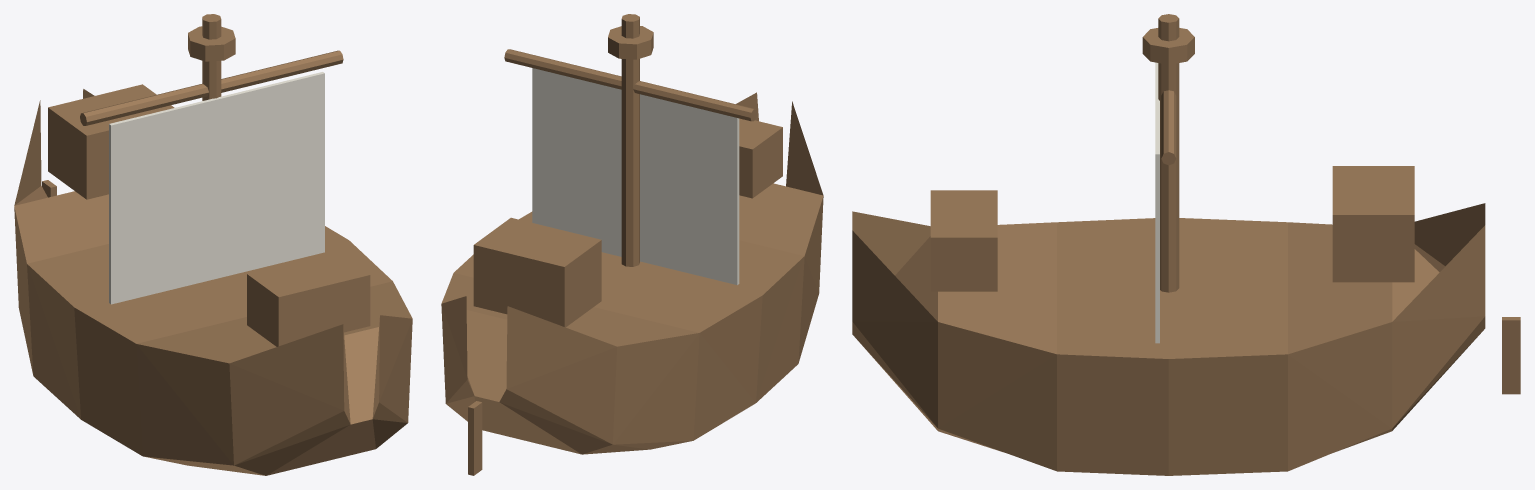
Rendered from Cog.fbx.
3 renders of one model, left to right at view 1: azimuth 30°, elevation 25°; view 2: azimuth 150°, elevation 25°; view 3: azimuth 270°, elevation 25°, orthographic. The views are drawn at different scales.
Visible parts, largest first — view 1: Cog; view 2: Cog; view 3: Cog.
Part boxes in pixels (x1,y1,x2,y2): Cog: (14, 14, 412, 475); Cog: (441, 14, 823, 475); Cog: (852, 14, 1520, 475).
Size of the model in its own units: 7.98 by 10.82 by 15.92.
